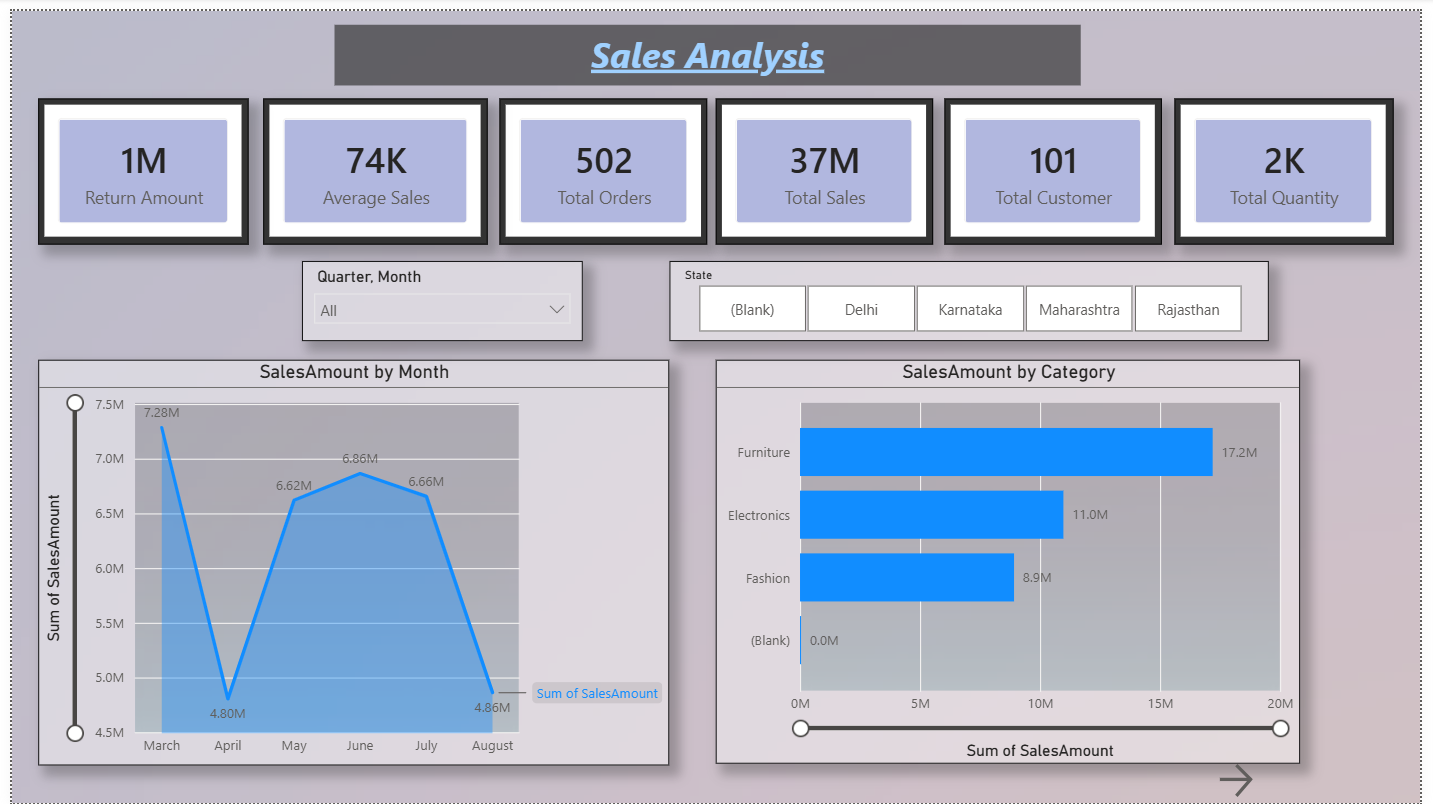

The page's visual inventory and layout, read from the dashboard file:
{"tool":"powerbi","page":{"name":"Page 1","canvas":[1280,720],"ordinal":0},"visuals":[{"type":"cardVisual","fields":{"Data":["Orders.total_orders"]},"box":[442.9,79.1,189,133],"z":0},{"type":"cardVisual","fields":{"Data":["Orders.Total Sales"]},"box":[639.6,79.1,197.8,133],"z":1000},{"type":"cardVisual","fields":{"Data":["Orders.average_sales"]},"box":[228.6,79.1,204.4,133],"z":2000},{"type":"cardVisual","fields":{"Data":["Customers.total_customer"]},"box":[847.3,79.1,197.8,133],"z":3000},{"type":"cardVisual","fields":{"Data":["Sum(Orders.Quantity)"]},"box":[1057.1,79.1,198.9,133],"z":4000},{"type":"cardVisual","fields":{"Data":["Sum(Returns.ReturnAmount)"]},"box":[24.2,79.1,191.2,133],"z":5000},{"type":"textbox","box":[292.8,12.4,678.4,55.4],"z":6000},{"type":"lineChart","title":"SalesAmount by Month","fields":{"Category":["Orders.OrderDate.Variation.Date Hierarchy.Year","Orders.OrderDate.Variation.Date Hierarchy.Quarter","Orders.OrderDate.Variation.Date Hierarchy.Month","Orders.OrderDate.Variation.Date Hierarchy.Day"],"Y":["Sum(Orders.SalesAmount)"]},"box":[23.7,316.6,573.2,368.6],"z":7000},{"type":"clusteredBarChart","title":"SalesAmount by Category","fields":{"Y":["Sum(Orders.SalesAmount)"],"Category":["Products.Category"]},"box":[639.5,317.4,531.4,367.4],"z":8000},{"type":"slicer","fields":{"Values":["Orders.OrderDate.Variation.Date Hierarchy.Quarter","Orders.OrderDate.Variation.Date Hierarchy.Month"]},"box":[263.7,227.5,254.9,72.5],"z":9000},{"type":"slicer","fields":{"Values":["Customers.State"]},"box":[597.8,227.5,545.1,72.5],"z":9001},{"type":"actionButton","box":[1092.5,680,100,40],"z":9002}]}

Visuals, with their boxes in screenshot pixels (x1, y1, x2, y2), scaled from the page's 1280x720 canvas onto the 1433x804 screenshot:
cardVisual - Orders.total_orders: region(496, 88, 707, 237)
cardVisual - Orders.Total Sales: region(716, 88, 937, 237)
cardVisual - Orders.average_sales: region(256, 88, 485, 237)
cardVisual - Customers.total_customer: region(949, 88, 1170, 237)
cardVisual - Sum(Orders.Quantity): region(1183, 88, 1406, 237)
cardVisual - Sum(Returns.ReturnAmount): region(27, 88, 241, 237)
textbox: region(328, 14, 1087, 76)
"SalesAmount by Month" lineChart: region(27, 354, 668, 765)
"SalesAmount by Category" clusteredBarChart: region(716, 354, 1311, 765)
slicer - Orders.OrderDate.Variation.Date Hierarchy.Quarter x Orders.OrderDate.Variation.Date Hierarchy.Month: region(295, 254, 581, 335)
slicer - Customers.State: region(669, 254, 1280, 335)
actionButton: region(1223, 759, 1335, 803)
